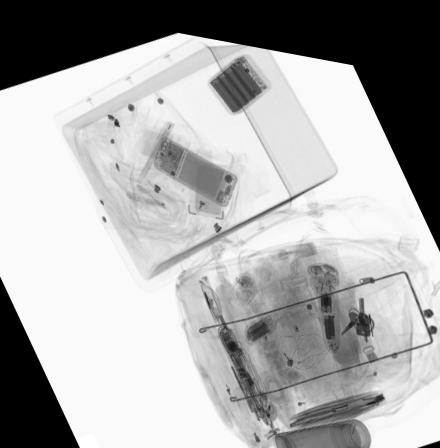Powerbank: (203, 39, 270, 108)
